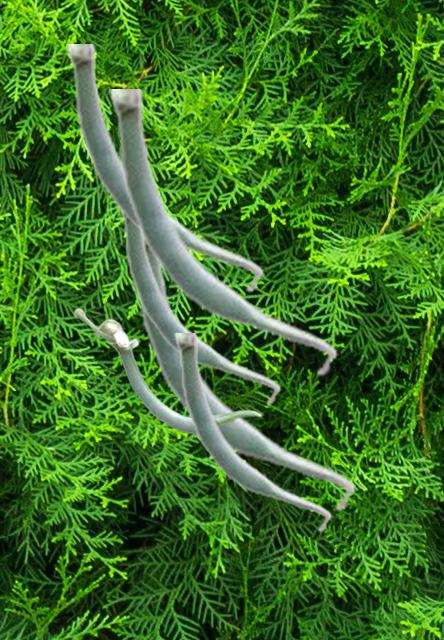french_bean: (109, 89, 337, 377), (133, 252, 355, 512), (66, 44, 263, 293), (118, 212, 280, 405), (174, 333, 331, 532), (73, 307, 261, 439)
